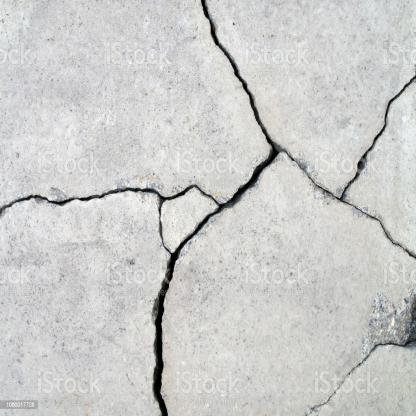network cracks: (0, 0, 415, 415), (304, 338, 415, 415)
